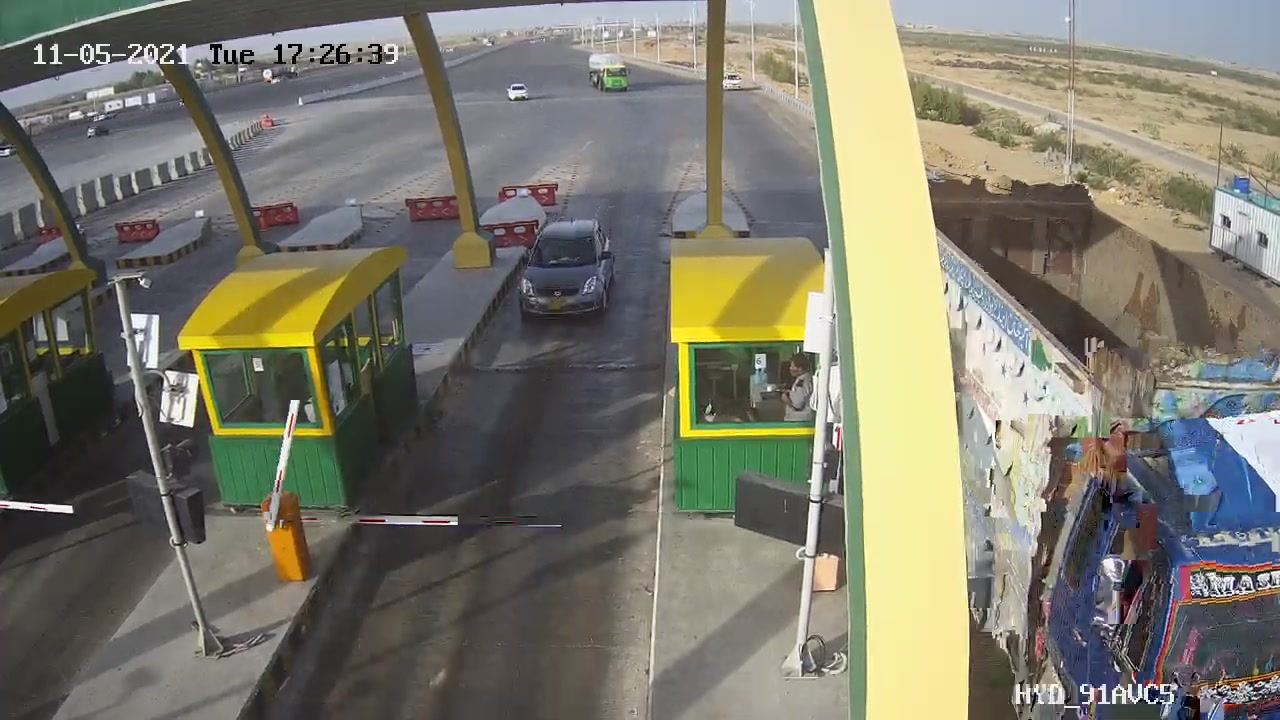F1: (498, 207, 633, 334)
